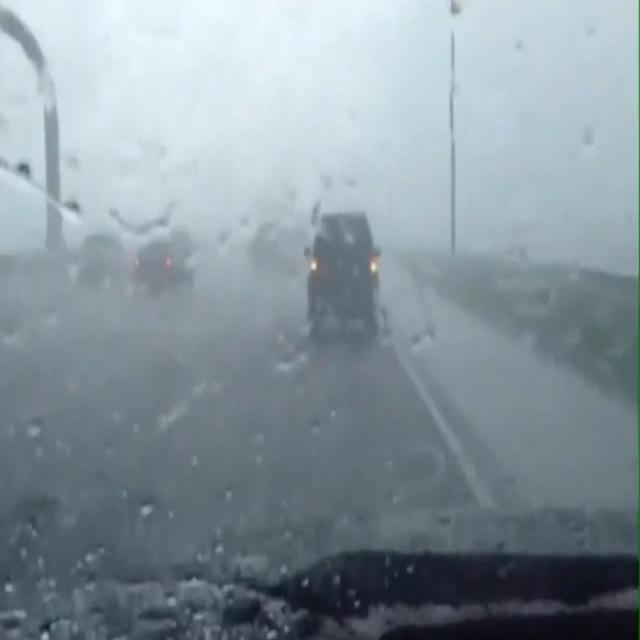Car: (302, 213, 384, 338), (132, 230, 198, 304)
